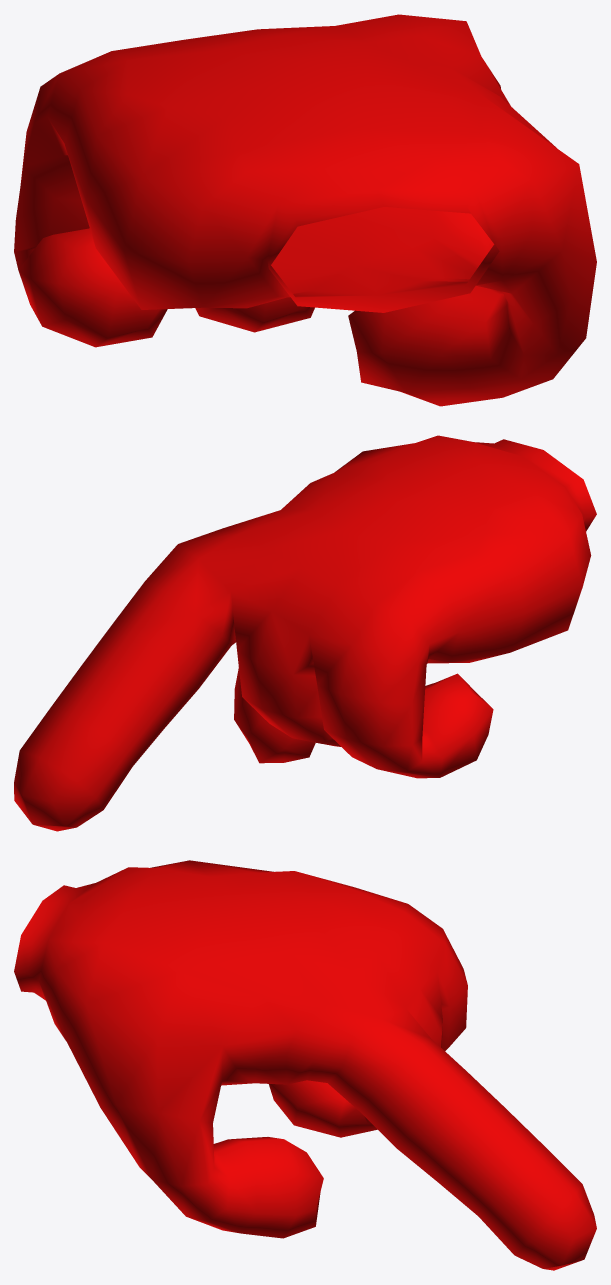
Rendered from Pointer_Hand_Left_Click.dae.
3 views of the same model, one above another, from view 1: azimuth 30°, elevation 25°; view 2: azimuth 150°, elevation 25°; view 3: azimuth 270°, elevation 25° (orthographic). The views are drawn at different scales.
Parts seen in each view (by area): view 1: Cube; view 2: Cube; view 3: Cube.
Boxes of the visible parts, x1,y1,x2,y2 form: Cube: (14, 14, 596, 406); Cube: (14, 435, 596, 831); Cube: (14, 860, 596, 1270).
Bounding box in the file's own units: 0.0251 × 0.0326 × 0.0171.
